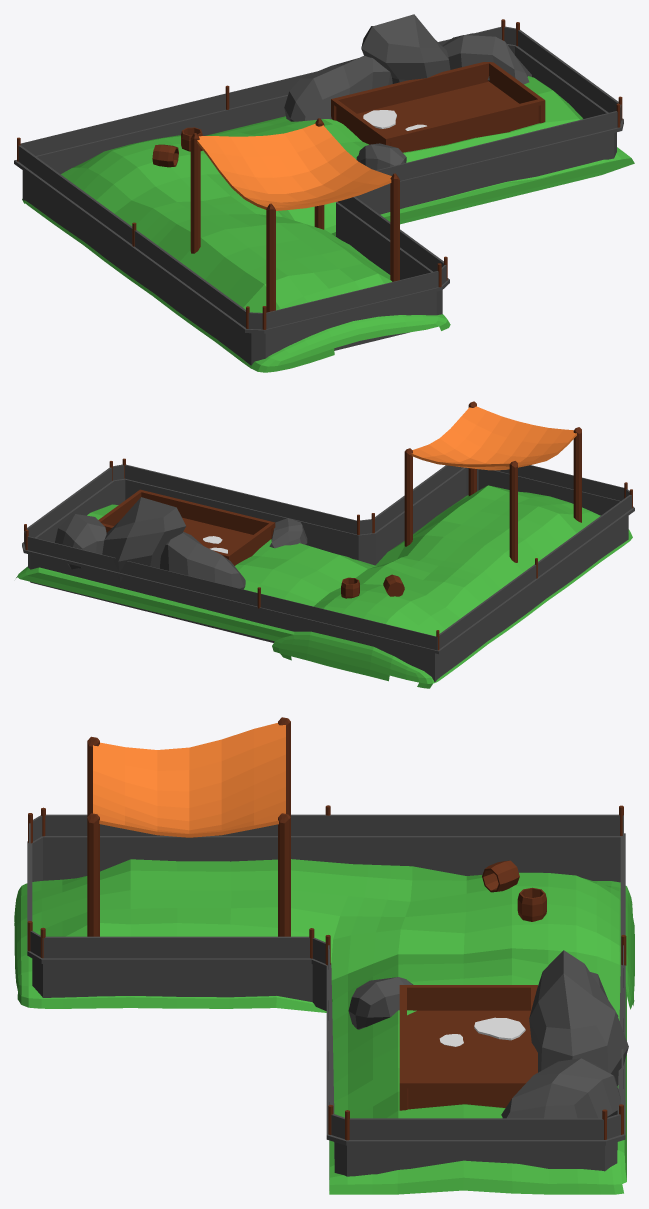
Rendered from Capybara_Level_1.fbx.
The picture shows the model from 3 angles, top to bottom: view 1: azimuth 30°, elevation 25°; view 2: azimuth 150°, elevation 25°; view 3: azimuth 270°, elevation 25°; orthographic projection. The views are drawn at different scales.
Visible parts, largest first — view 1: Ground.007; view 2: Ground.007; view 3: Ground.007.
Boxes of the visible parts, bbox=[...] form: Ground.007: bbox=[14, 14, 634, 372]; Ground.007: bbox=[16, 401, 634, 688]; Ground.007: bbox=[14, 717, 634, 1194].
Size of the model in its own units: 3072 by 953 by 2595.
